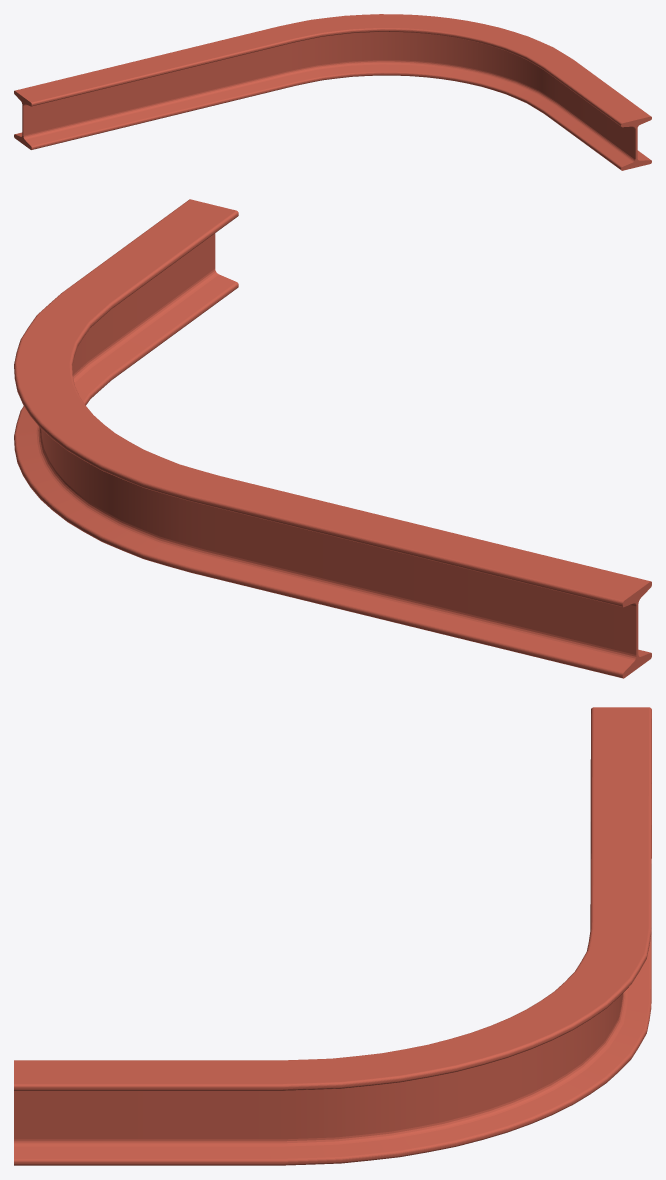
Rendered from H-Profile_Inter_Corner_Gap_1100.glb.
3 renders of one model, top to bottom at view 1: azimuth 30°, elevation 25°; view 2: azimuth 150°, elevation 25°; view 3: azimuth 270°, elevation 25°, orthographic. The views are drawn at different scales.
Visible parts, largest first — view 1: H_Profile_J_1; view 2: H_Profile_J_1; view 3: H_Profile_J_1.
Part boxes in pixels (x1,y1,x2,y2): H_Profile_J_1: (14, 14, 651, 170); H_Profile_J_1: (14, 199, 651, 678); H_Profile_J_1: (14, 707, 651, 1165).
Bounding box in the file's own units: 996 × 100 × 711.
